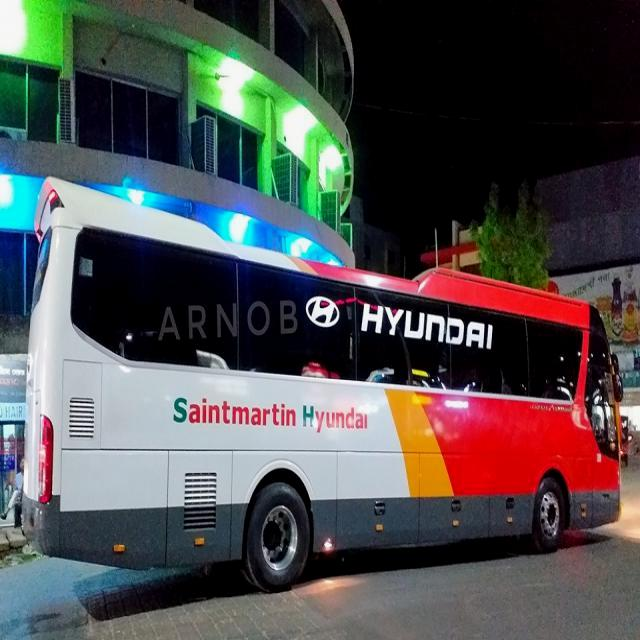bus: (21, 175, 625, 594)
